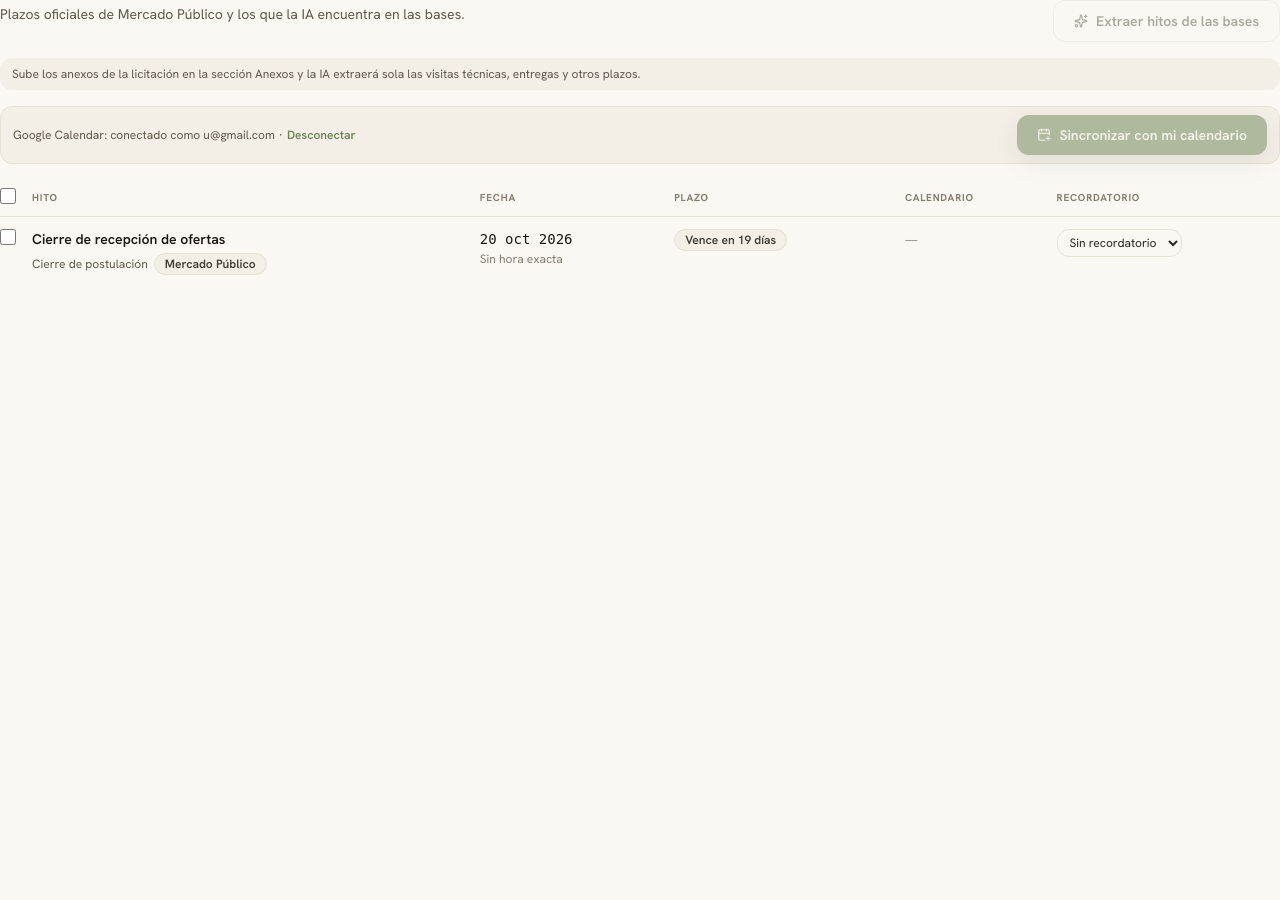
Scenario: MilestonesSection › sincronización con Google Calendar › antes de sincronizar un hito sin hora pide confirmar la hora
Expected: the text "Google Calendar: conectado como u@gmail.com" is shown, top-left (13, 127), bottom-right (275, 143)
Click the checkbox named "seleccionar cierre".
click(8, 237)  # box top-left (0, 229), bottom-right (16, 245)
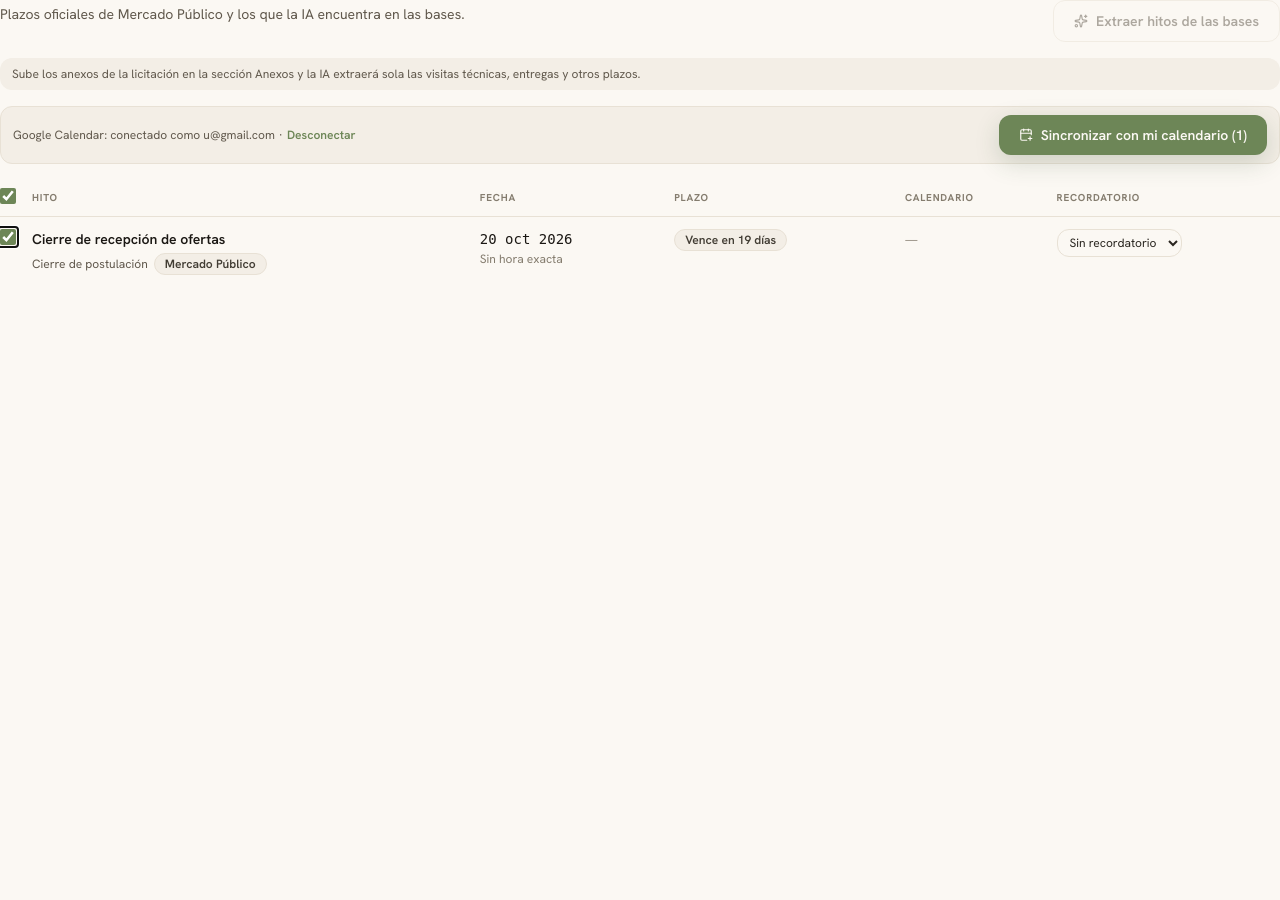
Click the button "Sincronizar con mi calendario (1)".
click(1133, 135)  # box top-left (999, 115), bottom-right (1267, 155)
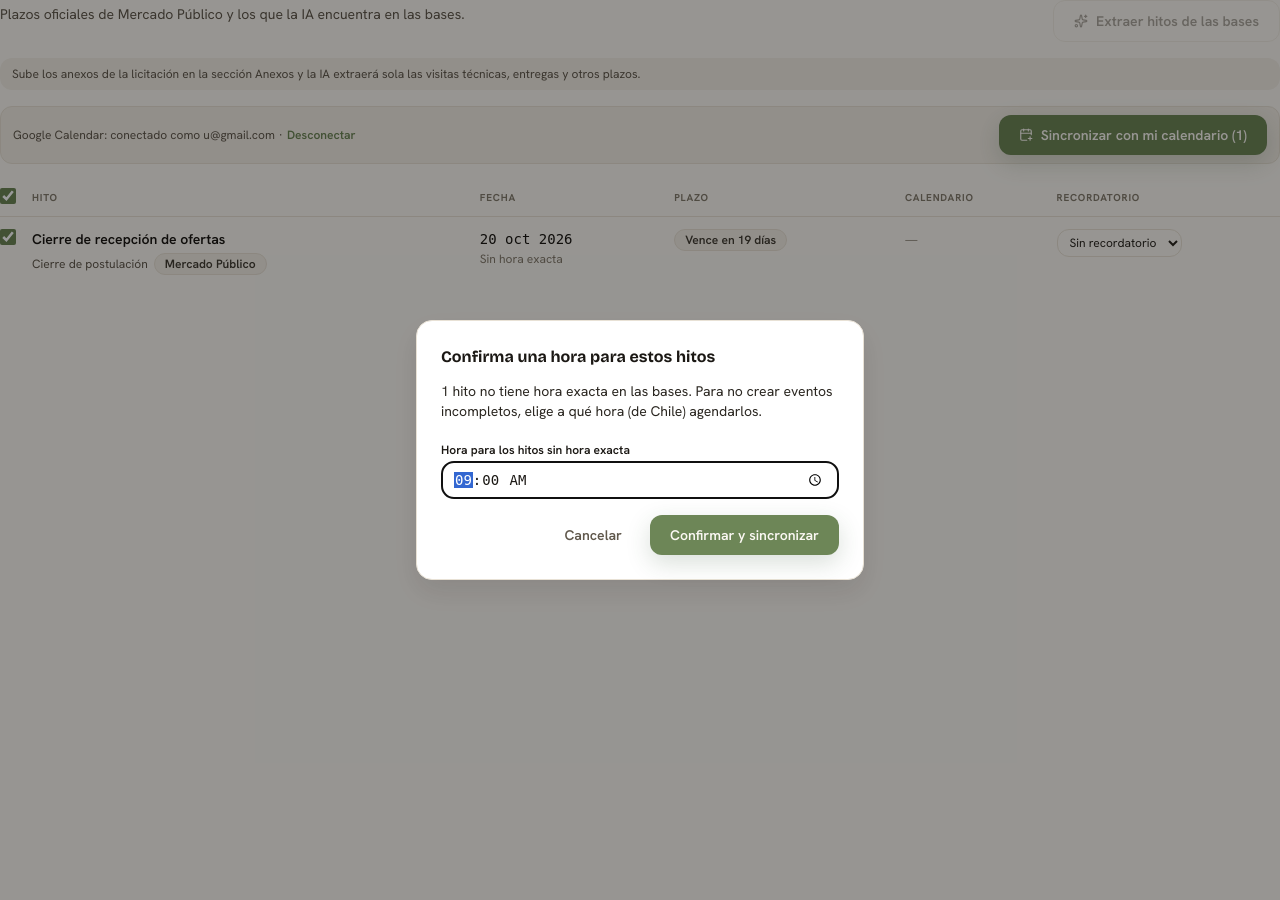
Click the button "Confirmar y sincronizar".
click(744, 535)  # box top-left (650, 515), bottom-right (839, 555)
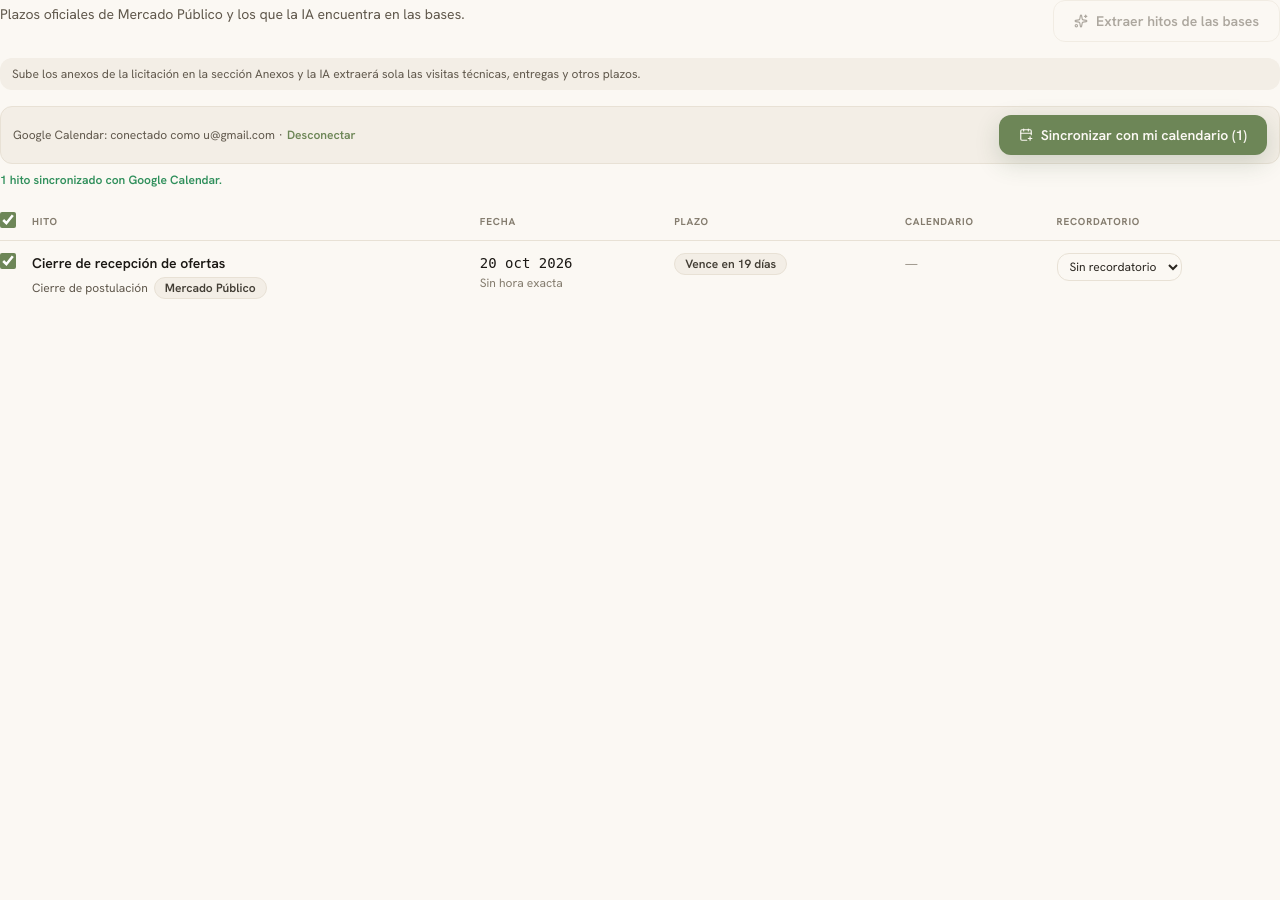
Expected: the dialog is gone
